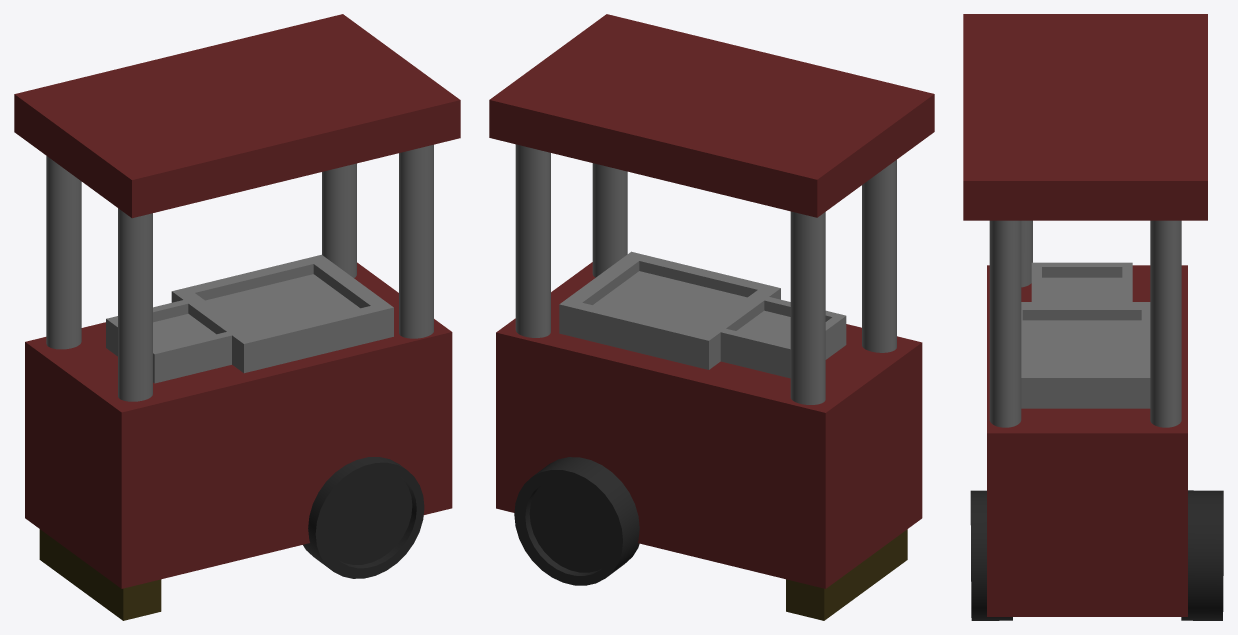
File: 포장마차.fbx
The picture shows the model from 3 angles, left to right: view 1: azimuth 30°, elevation 25°; view 2: azimuth 150°, elevation 25°; view 3: azimuth 270°, elevation 25°; orthographic projection. The views are drawn at different scales.
Parts seen in each view (by area): view 1: pCube1, pCube4, polySurface4, polySurface2, pCylinder4, pCylinder1, pCylinder2, polySurface5, pCube3, pCylinder3; view 2: pCube1, pCube4, polySurface4, polySurface3, pCylinder2, pCylinder3, pCylinder1, polySurface5, pCube3, pCylinder4; view 3: pCube4, pCube1, polySurface4, pCylinder4, pCylinder3, polySurface3, polySurface5, polySurface2, pCylinder1.
Boxes of the visible parts, bbox=[...] form: pCube1: bbox=[25, 262, 452, 588]; pCube4: bbox=[14, 14, 460, 218]; polySurface4: bbox=[171, 254, 393, 373]; polySurface2: bbox=[303, 457, 424, 578]; pCylinder4: bbox=[399, 144, 433, 338]; pCylinder1: bbox=[118, 208, 152, 401]; pCylinder2: bbox=[46, 156, 81, 349]; polySurface5: bbox=[106, 300, 240, 383]; pCube3: bbox=[39, 529, 161, 620]; pCylinder3: bbox=[322, 163, 356, 277]; pCube1: bbox=[496, 262, 922, 588]; pCube4: bbox=[489, 14, 934, 217]; polySurface4: bbox=[559, 251, 780, 369]; polySurface3: bbox=[514, 457, 639, 585]; pCylinder2: bbox=[790, 211, 825, 404]; pCylinder3: bbox=[515, 144, 550, 337]; pCylinder1: bbox=[862, 160, 896, 352]; polySurface5: bbox=[712, 296, 846, 378]; pCube3: bbox=[786, 529, 907, 620]; pCylinder4: bbox=[592, 163, 627, 277]; pCube4: bbox=[963, 14, 1207, 220]; pCube1: bbox=[987, 265, 1187, 616]; polySurface4: bbox=[1021, 302, 1150, 408]; pCylinder4: bbox=[989, 220, 1021, 427]; pCylinder3: bbox=[1150, 220, 1181, 427]; polySurface3: bbox=[1181, 490, 1223, 620]; polySurface5: bbox=[1031, 262, 1132, 306]; polySurface2: bbox=[970, 490, 1012, 620]; pCylinder1: bbox=[1021, 220, 1032, 287].
Bounding box in the file's own units: 2.65 × 3.51 × 1.73.
